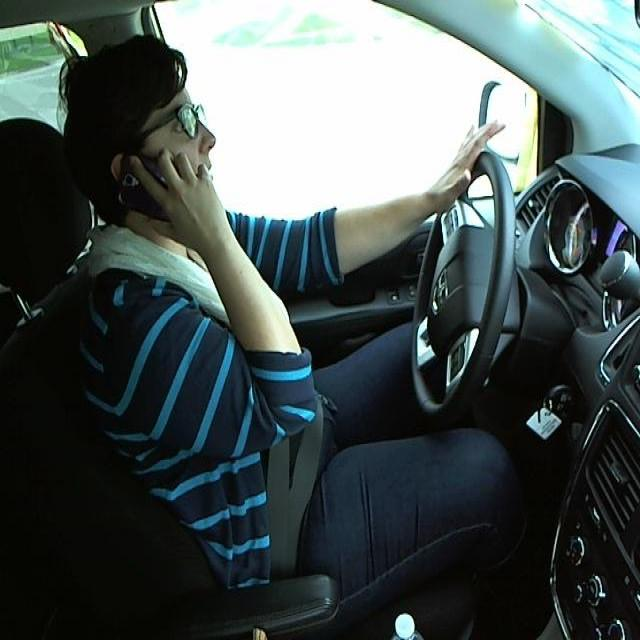using_phone: (32, 9, 290, 273)
